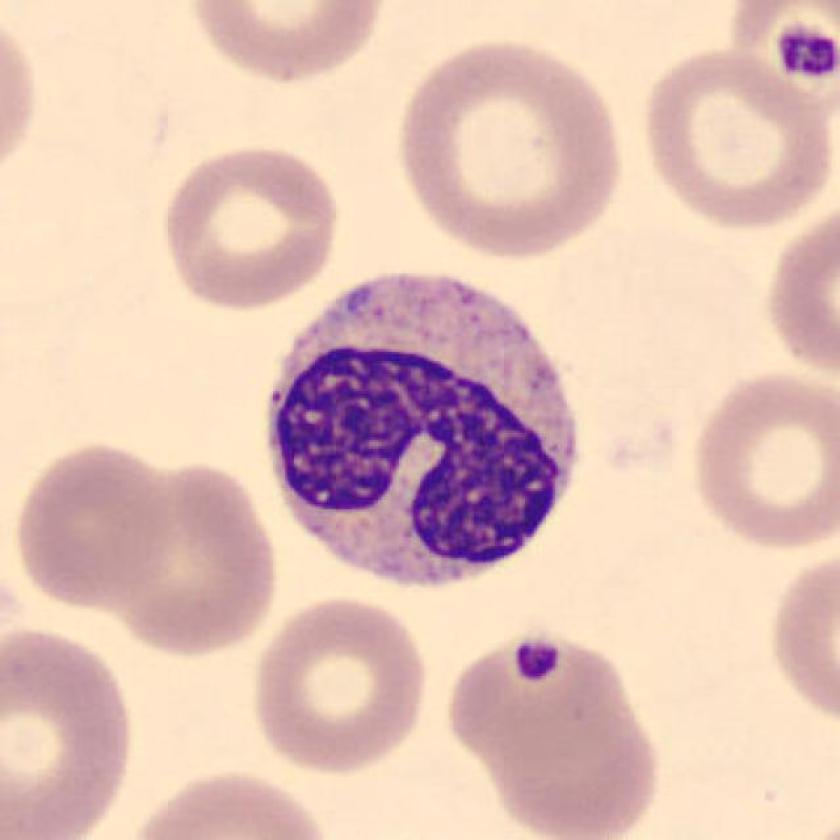neutrophil: (269, 273, 580, 585)
